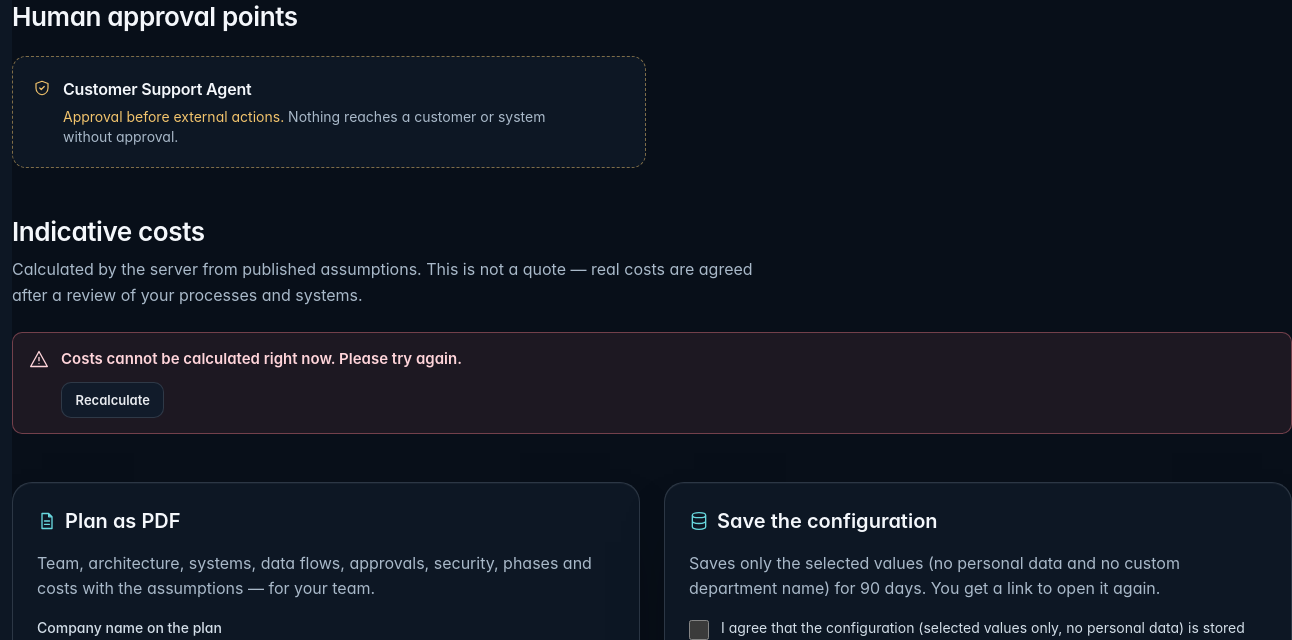
Test: configurator plan, export and consultation › shows a retryable error when the estimate fails
The width and height of the screenshot is (1292, 640).
(page scrolled)
Check: the message shows "Costs cannot be calculated right now. Please try again.", box [61, 349, 462, 368]
Click the button "Recalculate" at {"x": 113, "y": 400}, box [61, 382, 164, 418]
(page scrolled)
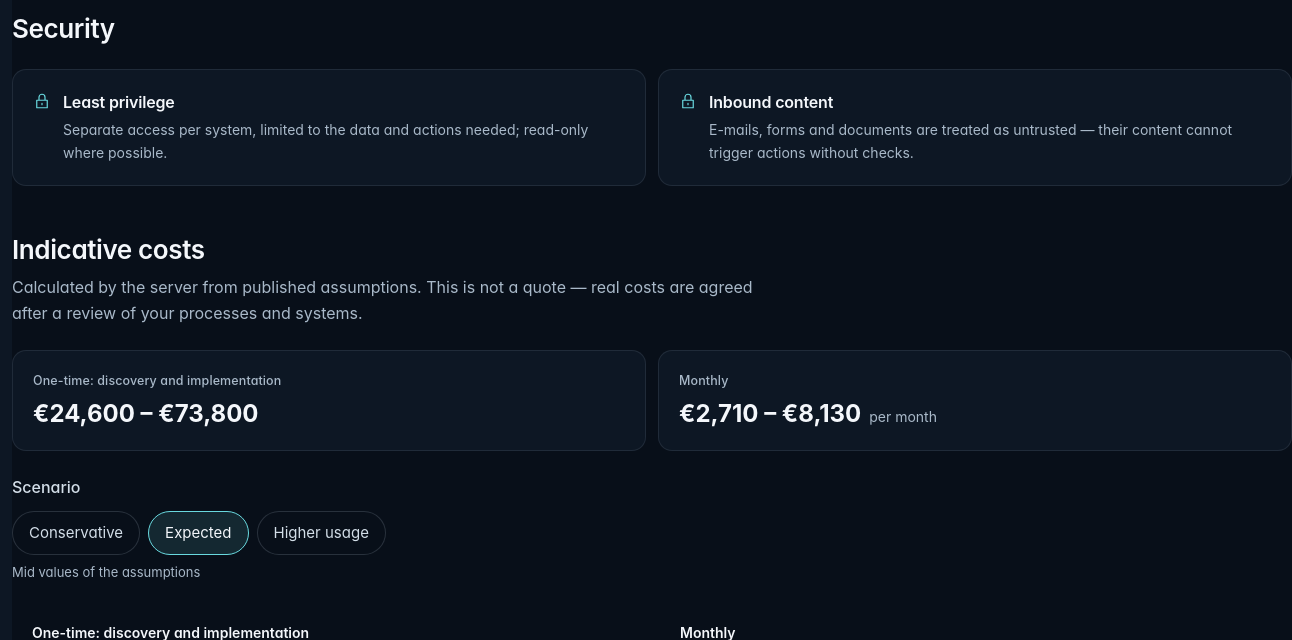
Check: the element with test id "team-cost-ranges" is shown, box [12, 350, 1291, 452]
